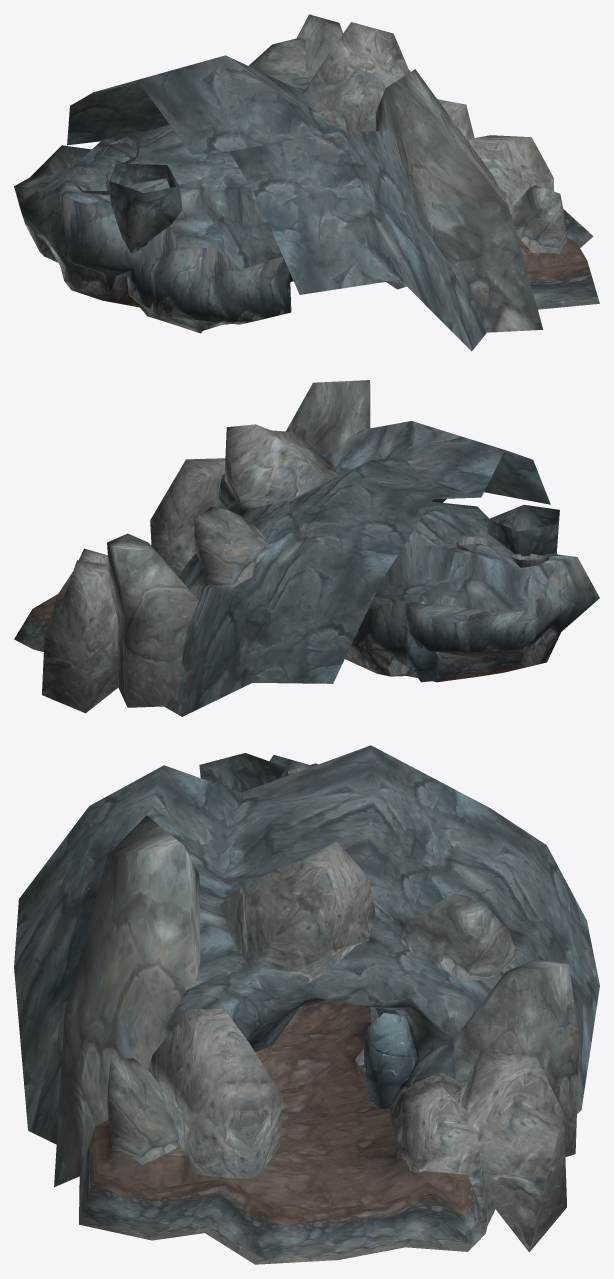
File: md_volcanicden.glb
The picture shows the model from 3 angles, top to bottom: view 1: azimuth 30°, elevation 25°; view 2: azimuth 150°, elevation 25°; view 3: azimuth 270°, elevation 25°; orthographic projection. The views are drawn at different scales.
Size of the model in its own units: 56.32 by 26.66 by 43.72.
Materials: 12 (12 with a texture image).
